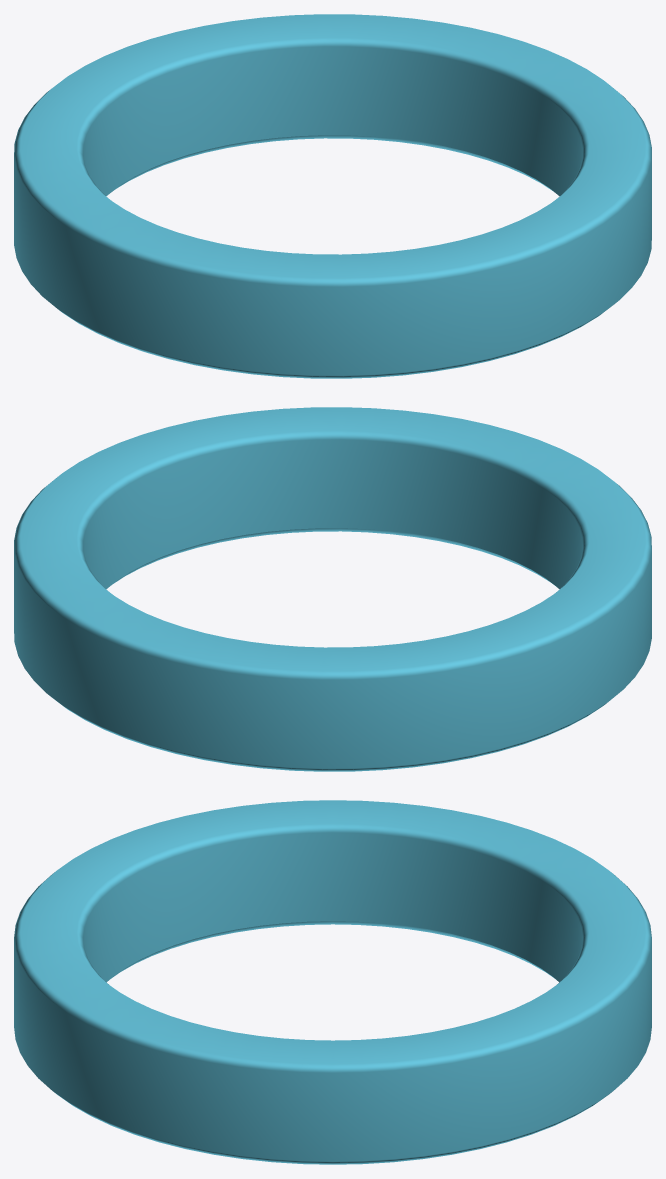
3 renders of one model, top to bottom at view 1: azimuth 30°, elevation 25°; view 2: azimuth 150°, elevation 25°; view 3: azimuth 270°, elevation 25°, orthographic.
Parts seen in each view (by area): view 1: seal_body; view 2: seal_body; view 3: seal_body.
Boxes of the visible parts, x1,y1,x2,y2 form: seal_body: [14, 14, 651, 378]; seal_body: [14, 407, 651, 771]; seal_body: [14, 800, 651, 1164].
Bounding box in the file's own units: 0.073 × 0.0127 × 0.073.
